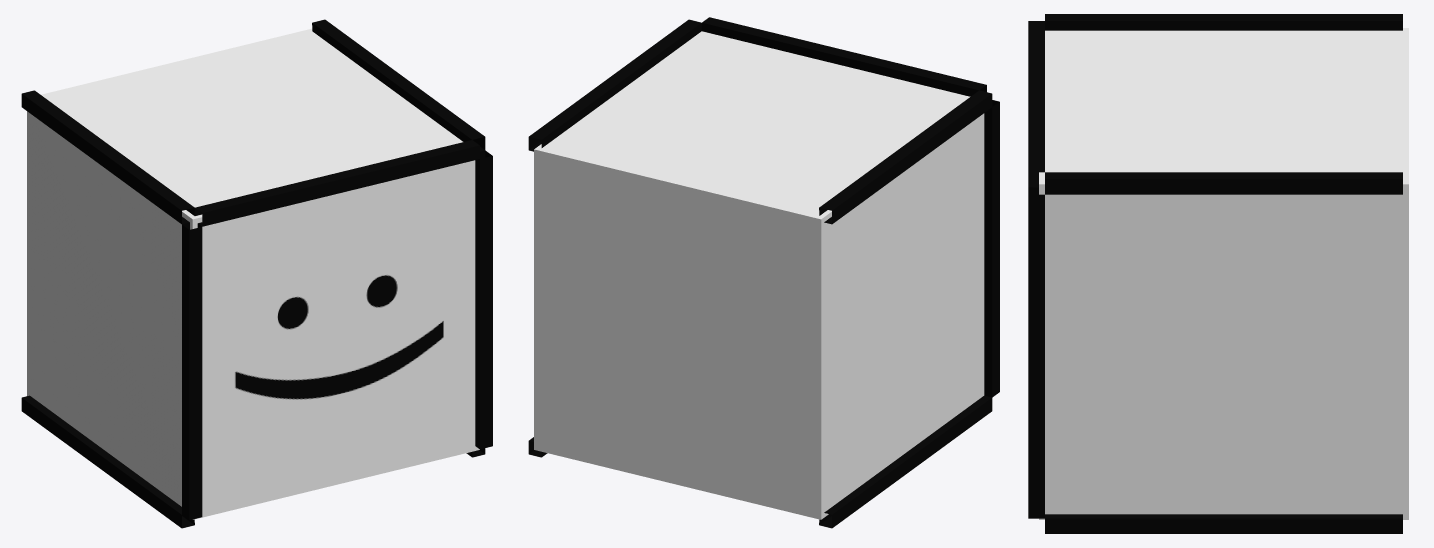
File: CubeOutline.fbx
3 views of the same model, side by side, from view 1: azimuth 30°, elevation 25°; view 2: azimuth 150°, elevation 25°; view 3: azimuth 270°, elevation 25° (orthographic). The views are drawn at different scales.
Visible parts, largest first — view 1: Cube.005; view 2: Cube.005; view 3: Cube.005.
Boxes of the visible parts, x1,y1,x2,y2 form: Cube.005: (21,19,492,528); Cube.005: (528,17,999,528); Cube.005: (1028,14,1408,533).
Size of the model in its own units: 200 by 200 by 200.
